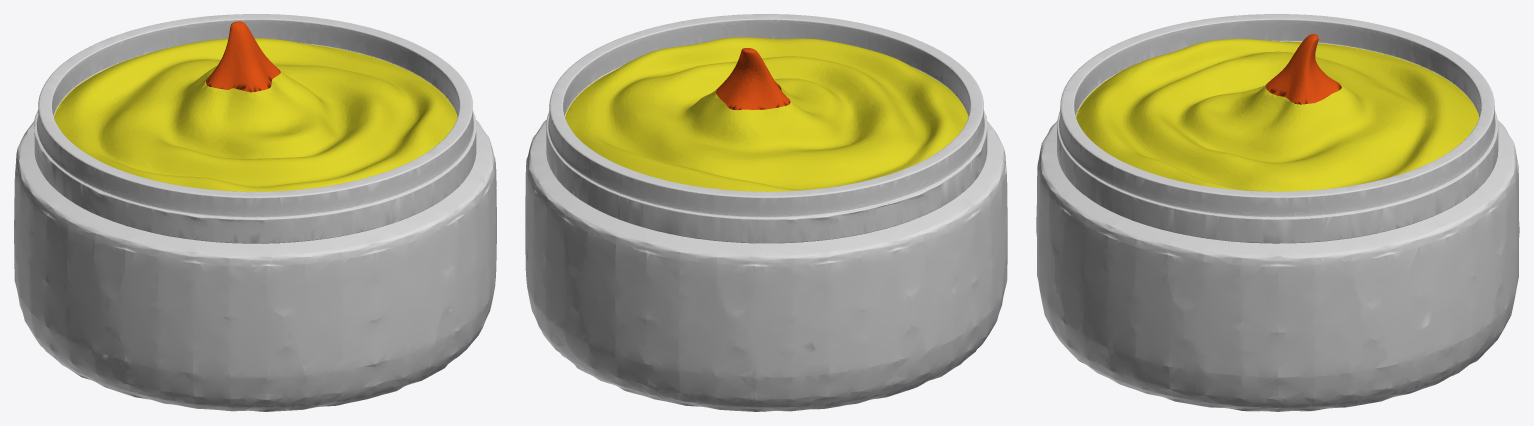
File: MDL_Creme.fbx
3 renders of one model, left to right at view 1: azimuth 30°, elevation 25°; view 2: azimuth 150°, elevation 25°; view 3: azimuth 270°, elevation 25°, orthographic.
Parts seen in each view (by area): view 1: model_part0.003, model_part1.002; view 2: model_part0.003, model_part1.002; view 3: model_part0.003, model_part1.002.
Part boxes in pixels (<box>): model_part0.003: <box>14,14,496,411</box>; model_part1.002: <box>54,21,457,191</box>; model_part0.003: <box>525,14,1007,411</box>; model_part1.002: <box>565,37,968,191</box>; model_part0.003: <box>1036,14,1519,411</box>; model_part1.002: <box>1076,34,1479,191</box>.
Bounding box in the file's own units: 109 × 75.55 × 109.
